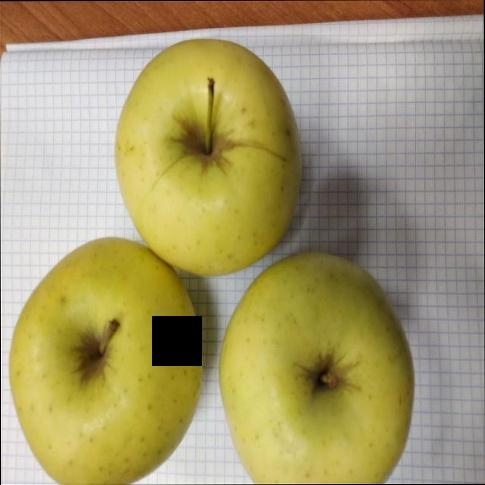green apple: (7, 236, 203, 485), (218, 252, 418, 485), (113, 37, 303, 281)
